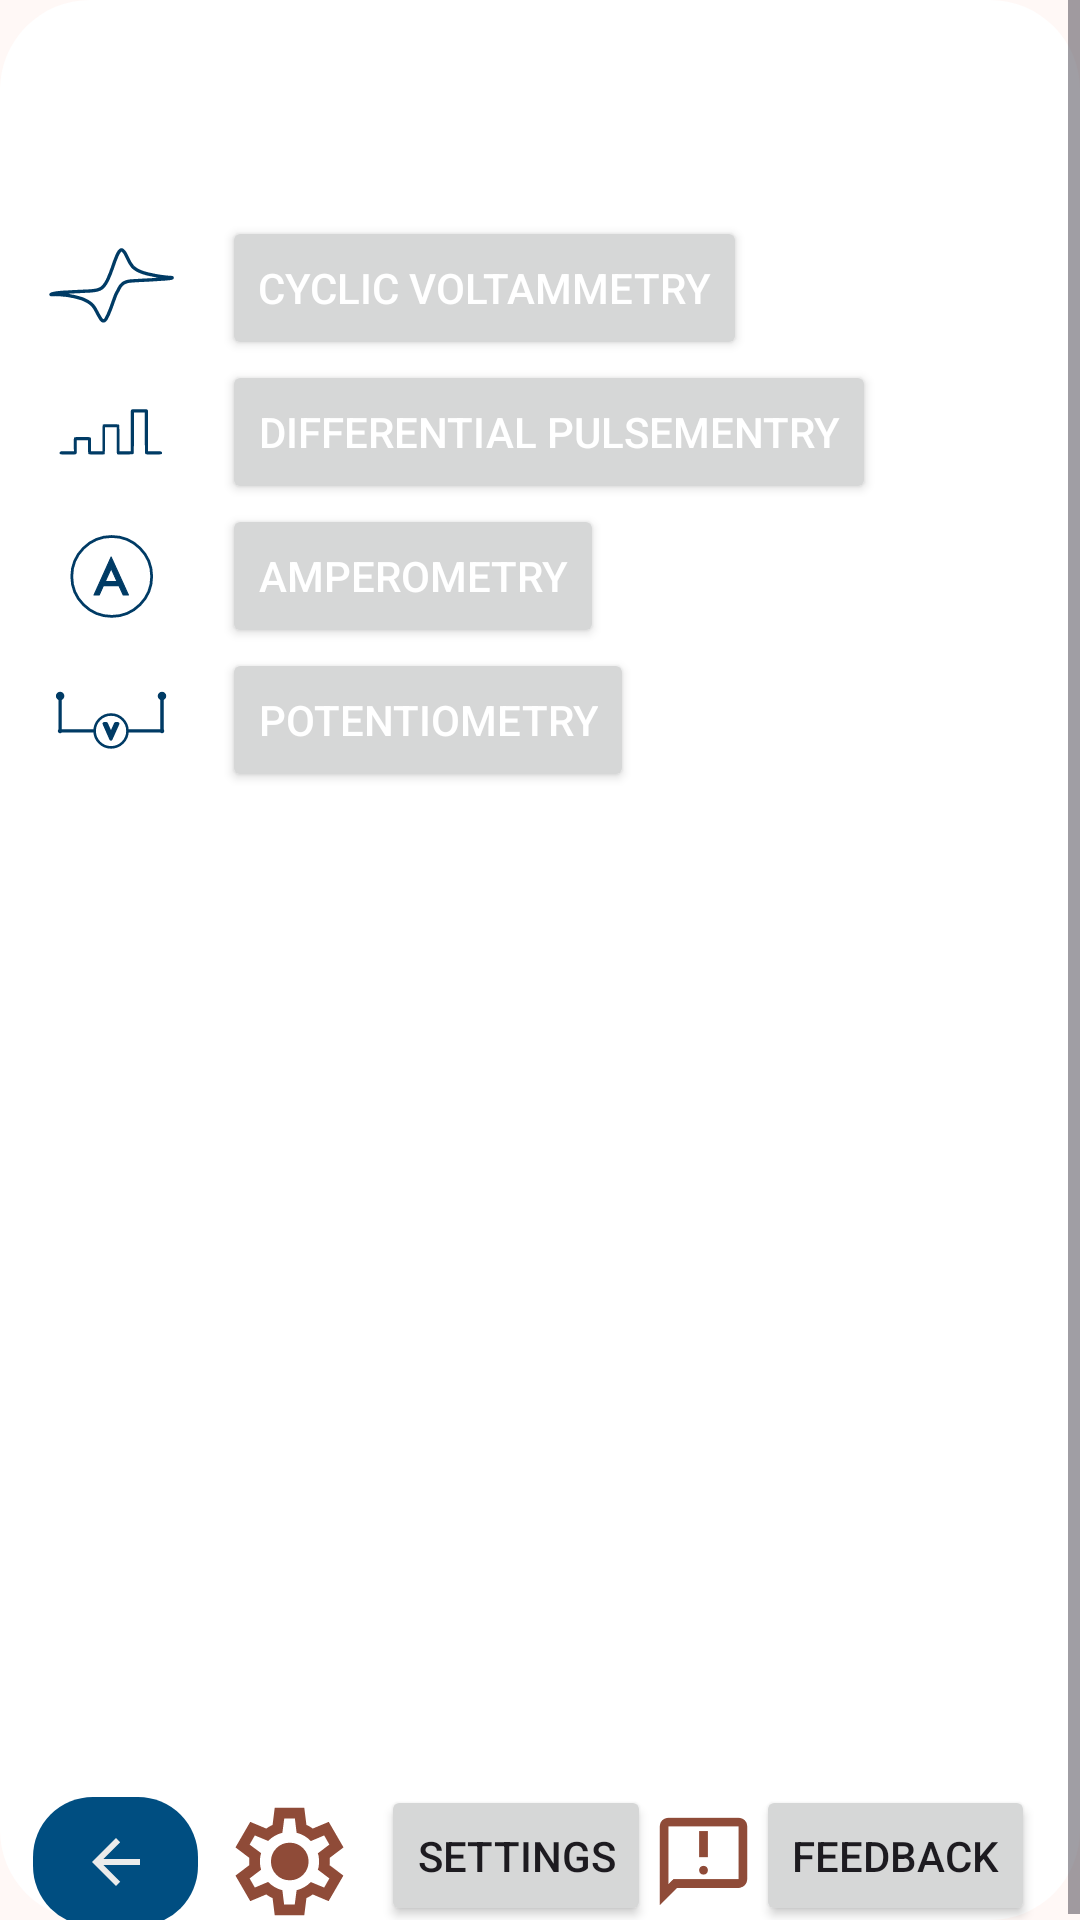

Icons on this 1080 x 1920 Android screen, each with the point to tap as [x,y]:
diffpulsemetry: [110,432]
parametres: [289,1861]
